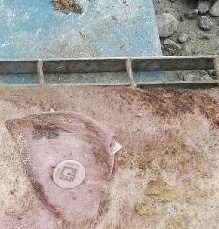text: (43, 147, 91, 197)
